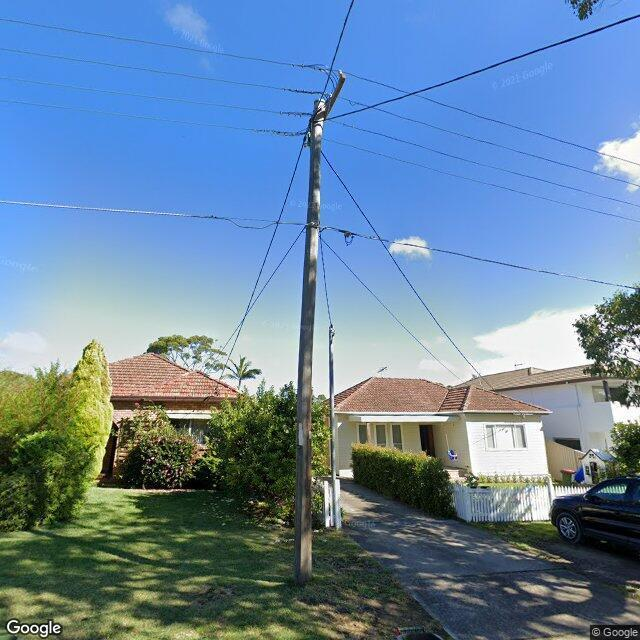crossarm: (306, 74, 348, 146)
timber-pole: (292, 97, 326, 588)
